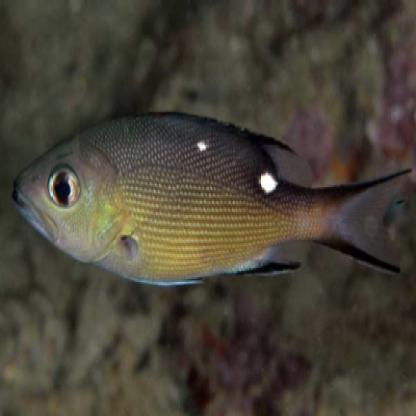Bio: (8, 100, 413, 300)
